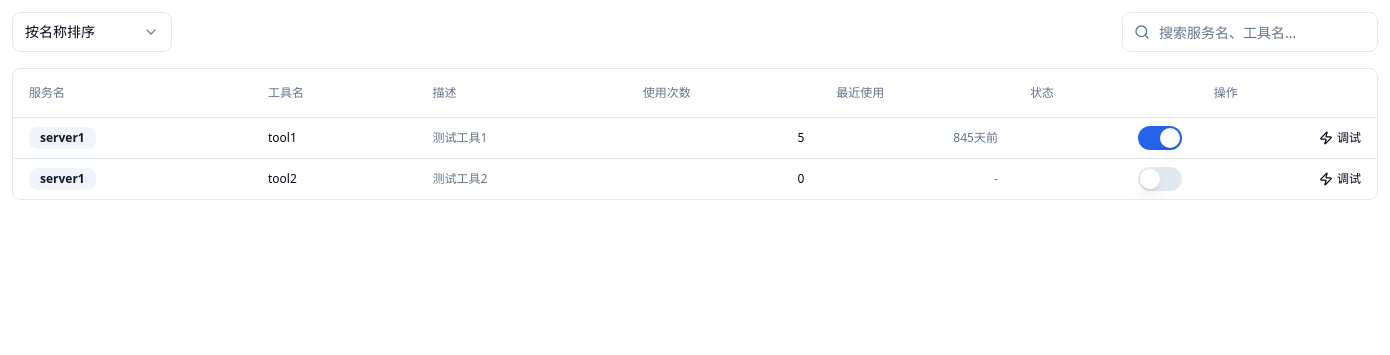
Scenario: McpToolTable › 空状态处理 › 搜索无结果时应该显示无结果提示
Expected: the text "server1" in the row of "tool1" is shown, [40,129,85,146]
# 输入不存在的搜索关键词
Type "nonexistenttool123" into the field with placeholder "搜索服务名、工具名...". click: (1250, 32)
box: [1122,12,1378,52]
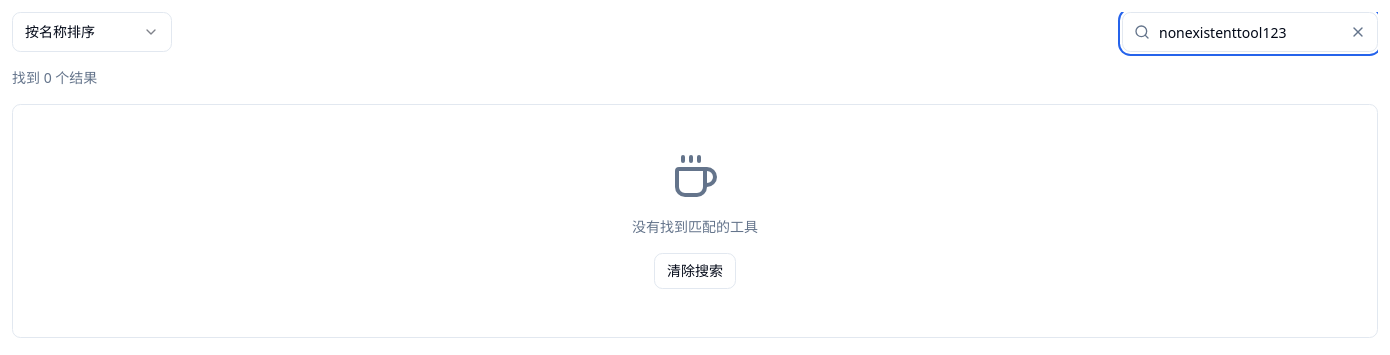
Result: the text "没有找到匹配的工具" is shown at [632,217,758,237]
